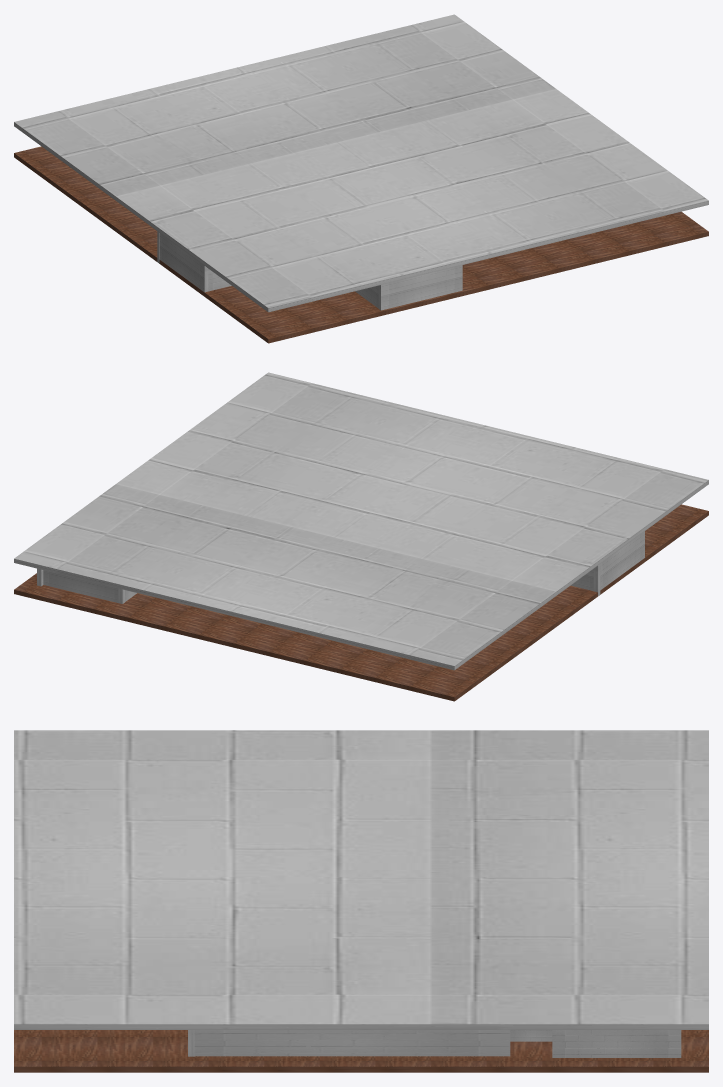
File: Tutorial.fbx
3 views of the same model, one above another, from view 1: azimuth 30°, elevation 25°; view 2: azimuth 150°, elevation 25°; view 3: azimuth 270°, elevation 25° (orthographic). The views are drawn at different scales.
Parts seen in each view (by area): view 1: Ceiling, Floor, SideRoom_BackWall, StartRoom_BackWall; view 2: Ceiling, Floor, StartRoom_BackWall, BackRoom_BackWall; view 3: Ceiling, Floor, MazeRoom_BackWall, BackRoom_RightWall.
Part boxes in pixels (bbox=[...]): Ceiling: bbox=[14, 14, 708, 312]; Floor: bbox=[14, 146, 708, 343]; SideRoom_BackWall: bbox=[378, 265, 462, 310]; StartRoom_BackWall: bbox=[160, 233, 208, 292]; Ceiling: bbox=[14, 372, 708, 670]; Floor: bbox=[14, 504, 708, 701]; StartRoom_BackWall: bbox=[593, 531, 644, 592]; BackRoom_BackWall: bbox=[43, 570, 124, 603]; Ceiling: bbox=[14, 730, 708, 1029]; Floor: bbox=[14, 1030, 708, 1072]; MazeRoom_BackWall: bbox=[194, 1030, 510, 1056]; BackRoom_RightWall: bbox=[552, 1030, 681, 1057].
Size of the model in its own units: 53.85 by 4.14 by 53.84.
2 materials, 2 textured.
